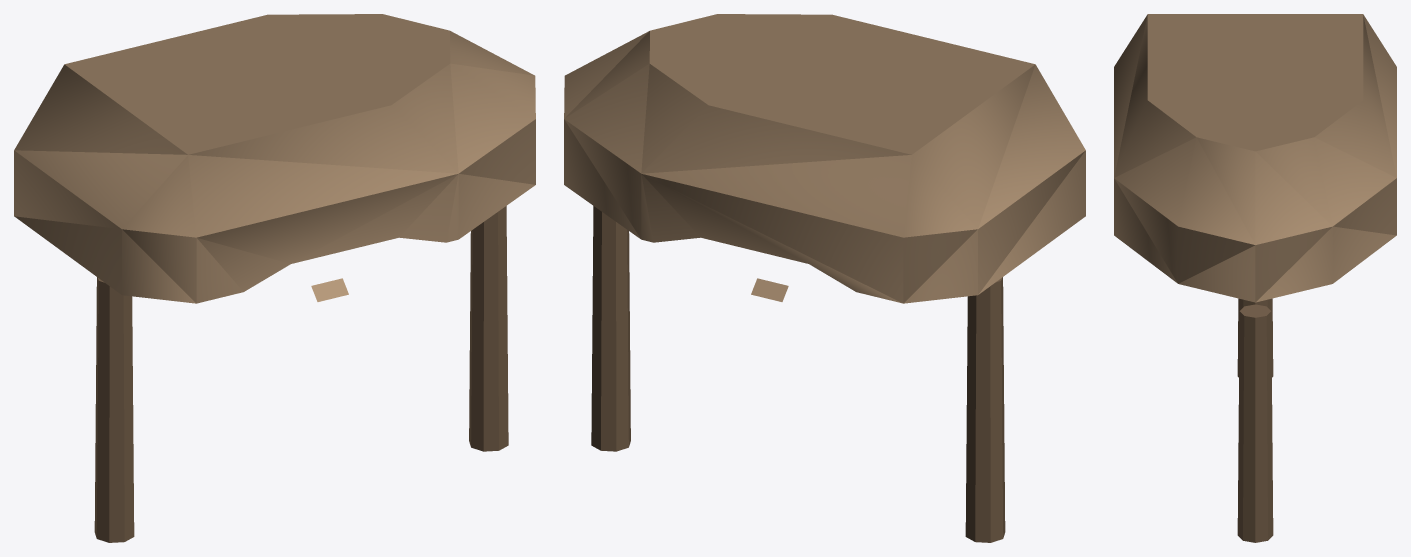
The model's file is K_BoatRack.glb.
3 renders of one model, left to right at view 1: azimuth 30°, elevation 25°; view 2: azimuth 150°, elevation 25°; view 3: azimuth 270°, elevation 25°, orthographic. The views are drawn at different scales.
Parts seen in each view (by area): view 1: K_BoatRack; view 2: K_BoatRack; view 3: K_BoatRack.
Part boxes in pixels (bbox=[...]): K_BoatRack: bbox=[14, 14, 535, 542]; K_BoatRack: bbox=[564, 14, 1085, 542]; K_BoatRack: bbox=[1114, 14, 1396, 542].
Size of the model in its own units: 2.37 by 2.05 by 1.43.
